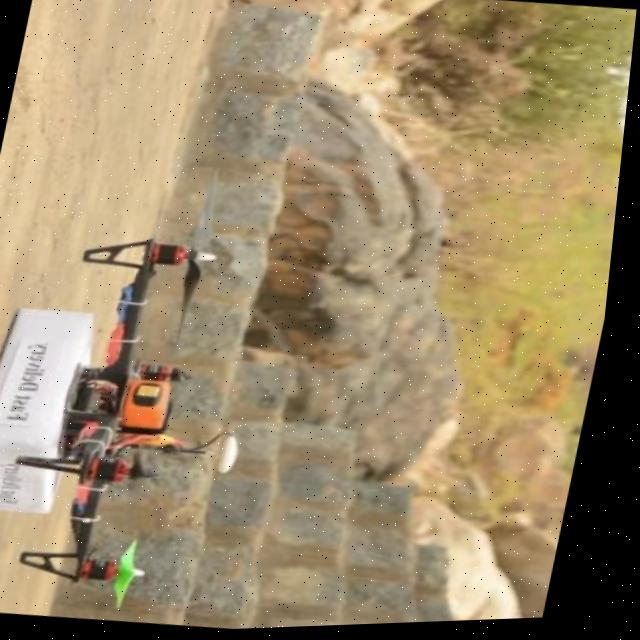drones: (0, 191, 307, 629)
